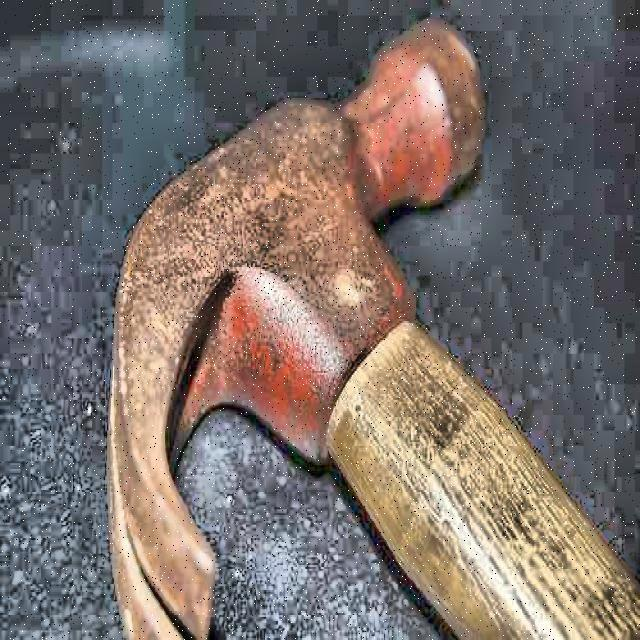hammer: (104, 15, 640, 640)
